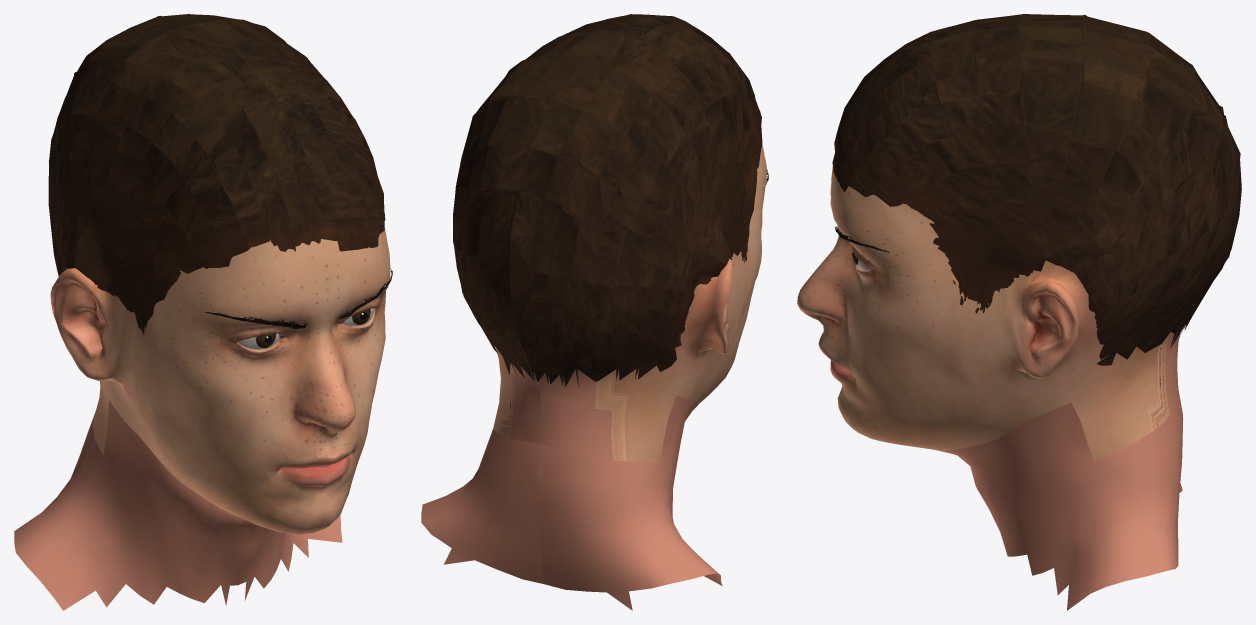
Rendered from hero_golf_head_mcilro.glb.
3 views of the same model, side by side, from view 1: azimuth 30°, elevation 25°; view 2: azimuth 150°, elevation 25°; view 3: azimuth 270°, elevation 25° (orthographic). The views are drawn at different scales.
Visible parts, largest first — view 1: head_skull, mpfb_hair, mpfb_eyes, mpfb_brows; view 2: mpfb_hair, head_skull; view 3: mpfb_hair, head_skull.
Boxes of the visible parts, left/top/right/bottom form: head_skull: left=14, top=228, right=390, bottom=610; mpfb_hair: left=48, top=14, right=385, bottom=335; mpfb_eyes: left=237, top=308, right=374, bottom=348; mpfb_brows: left=205, top=268, right=392, bottom=328; mpfb_hair: left=453, top=14, right=762, bottom=386; head_skull: left=421, top=144, right=766, bottom=610; mpfb_hair: left=832, top=14, right=1241, bottom=365; head_skull: left=797, top=166, right=1183, bottom=610.
Bounding box in the file's own units: 0.2408 × 0.4085 × 0.3142.
4 materials, 4 textured.
